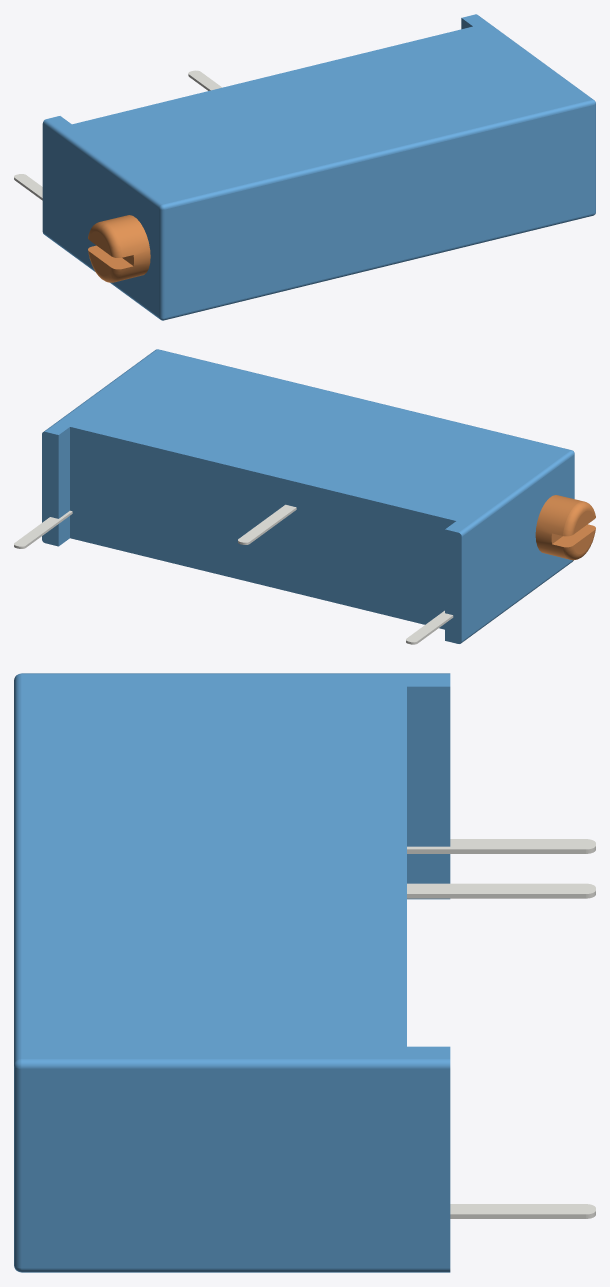
Rendered from Potentiometer_Bourns_3009Y_Horizontal.glb.
The picture shows the model from 3 angles, top to bottom: view 1: azimuth 30°, elevation 25°; view 2: azimuth 150°, elevation 25°; view 3: azimuth 270°, elevation 25°; orthographic projection. The views are drawn at different scales.
Visible parts, largest first — view 1: Shape_IndexedFaceSet, Shape_IndexedFaceSet.009, Shape_IndexedFaceSet.006, Shape_IndexedFaceSet.002, Shape_IndexedFaceSet.016, Shape_IndexedFaceSet.003, Shape_IndexedFaceSet.013, Shape_IndexedFaceSet.001, Shape_IndexedFaceSet.032, Shape_IndexedFaceSet.029; view 2: Shape_IndexedFaceSet.009, Shape_IndexedFaceSet.020, Shape_IndexedFaceSet.006, Shape_IndexedFaceSet.015, Shape_IndexedFaceSet.019, Shape_IndexedFaceSet.016, Shape_IndexedFaceSet.021, Shape_IndexedFaceSet.013, Shape_IndexedFaceSet.038, Shape_IndexedFaceSet.032, Shape_IndexedFaceSet.035, Shape_IndexedFaceSet.002 (+2 smaller); view 3: Shape_IndexedFaceSet.009, Shape_IndexedFaceSet.012, Shape_IndexedFaceSet.018, Shape_IndexedFaceSet.017, Shape_IndexedFaceSet.002, Shape_IndexedFaceSet.022, Shape_IndexedFaceSet.038, Shape_IndexedFaceSet.025, Shape_IndexedFaceSet.004, Shape_IndexedFaceSet.035, Shape_IndexedFaceSet.023, Shape_IndexedFaceSet.037 (+2 smaller).
Boxes of the visible parts, x1=… form: Shape_IndexedFaceSet: x1=165, y1=105, x2=593, y2=317; Shape_IndexedFaceSet.009: x1=46, y1=14, x2=591, y2=204; Shape_IndexedFaceSet.006: x1=42, y1=124, x2=159, y2=316; Shape_IndexedFaceSet.002: x1=163, y1=100, x2=593, y2=209; Shape_IndexedFaceSet.016: x1=102, y1=215, x2=150, y2=281; Shape_IndexedFaceSet.003: x1=164, y1=213, x2=593, y2=320; Shape_IndexedFaceSet.013: x1=43, y1=119, x2=162, y2=208; Shape_IndexedFaceSet.001: x1=159, y1=209, x2=164, y2=318; Shape_IndexedFaceSet.032: x1=88, y1=221, x2=122, y2=257; Shape_IndexedFaceSet.029: x1=88, y1=245, x2=132, y2=269; Shape_IndexedFaceSet.009: x1=45, y1=349, x2=570, y2=532; Shape_IndexedFaceSet.020: x1=70, y1=427, x2=455, y2=629; Shape_IndexedFaceSet.006: x1=461, y1=455, x2=574, y2=640; Shape_IndexedFaceSet.015: x1=445, y1=529, x2=461, y2=643; Shape_IndexedFaceSet.019: x1=42, y1=431, x2=58, y2=546; Shape_IndexedFaceSet.016: x1=535, y1=495, x2=582, y2=559; Shape_IndexedFaceSet.021: x1=58, y1=427, x2=69, y2=518; Shape_IndexedFaceSet.013: x1=459, y1=450, x2=573, y2=536; Shape_IndexedFaceSet.038: x1=238, y1=504, x2=296, y2=542; Shape_IndexedFaceSet.032: x1=562, y1=501, x2=595, y2=536; Shape_IndexedFaceSet.035: x1=14, y1=510, x2=72, y2=546; Shape_IndexedFaceSet.002: x1=158, y1=349, x2=571, y2=450; Shape_IndexedFaceSet.009: x1=21, y1=674, x2=450, y2=1058; Shape_IndexedFaceSet.012: x1=21, y1=1068, x2=450, y2=1268; Shape_IndexedFaceSet.018: x1=407, y1=686, x2=450, y2=846; Shape_IndexedFaceSet.017: x1=21, y1=1059, x2=450, y2=1068; Shape_IndexedFaceSet.002: x1=14, y1=674, x2=21, y2=1064; Shape_IndexedFaceSet.022: x1=21, y1=1268, x2=450, y2=1272; Shape_IndexedFaceSet.038: x1=407, y1=883, x2=595, y2=893; Shape_IndexedFaceSet.025: x1=407, y1=839, x2=595, y2=849; Shape_IndexedFaceSet.004: x1=14, y1=1066, x2=21, y2=1268; Shape_IndexedFaceSet.035: x1=450, y1=1204, x2=595, y2=1214; Shape_IndexedFaceSet.023: x1=407, y1=854, x2=450, y2=899; Shape_IndexedFaceSet.037: x1=407, y1=849, x2=585, y2=853.
Size of the model in its own units: 8.1 by 1.9 by 4.72.
